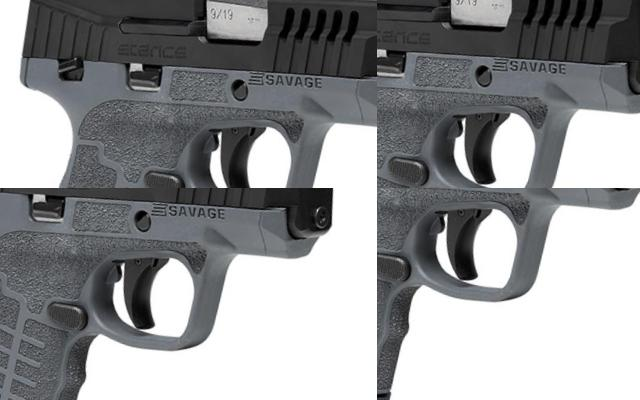handgun: (34, 0, 377, 188), (377, 188, 640, 400), (181, 188, 292, 288), (377, 0, 398, 23)
